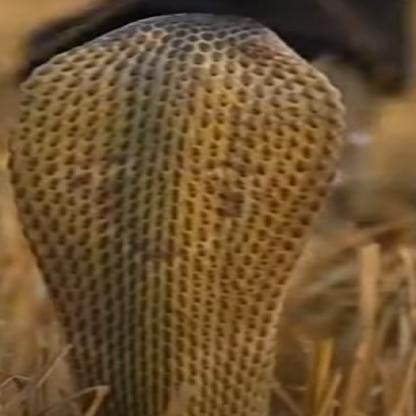Snake: (13, 5, 350, 416)
